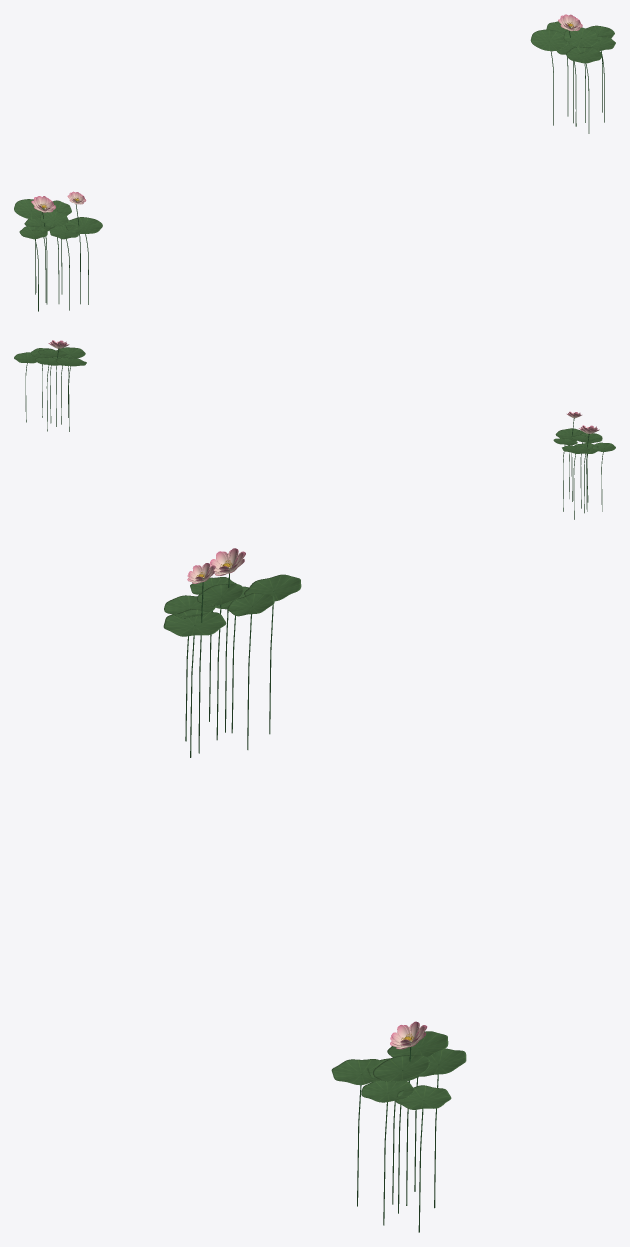
The model's file is pond-lotus.glb.
The picture shows the model from 3 angles, top to bottom: view 1: azimuth 30°, elevation 25°; view 2: azimuth 150°, elevation 25°; view 3: azimuth 270°, elevation 25°; orthographic projection. The views are drawn at different scales.
Parts seen in each view (by area): view 1: Pond lotus | Sanctuary | living lotus leaves, Pond lotus | Sanctuary | botanical stems, Pond lotus | Sanctuary | living lotus petals; view 2: Pond lotus | Sanctuary | living lotus leaves, Pond lotus | Sanctuary | botanical stems, Pond lotus | Sanctuary | living lotus petals; view 3: Pond lotus | Sanctuary | living lotus leaves, Pond lotus | Sanctuary | botanical stems, Pond lotus | Sanctuary | living lotus petals.
Part boxes in pixels (x1,y1,x2,y2): Pond lotus | Sanctuary | living lotus leaves: (14, 21, 615, 239); Pond lotus | Sanctuary | botanical stems: (35, 26, 604, 311); Pond lotus | Sanctuary | living lotus petals: (31, 14, 582, 212); Pond lotus | Sanctuary | living lotus leaves: (14, 347, 615, 453); Pond lotus | Sanctuary | botanical stems: (25, 348, 603, 519); Pond lotus | Sanctuary | living lotus petals: (48, 340, 599, 433); Pond lotus | Sanctuary | living lotus leaves: (163, 574, 466, 1109); Pond lotus | Sanctuary | botanical stems: (185, 568, 438, 1232); Pond lotus | Sanctuary | living lotus petals: (187, 548, 427, 1049).
Bounding box in the file's own units: 15.29 × 2.48 × 3.68.
Materials: 5 (2 with a texture image).
